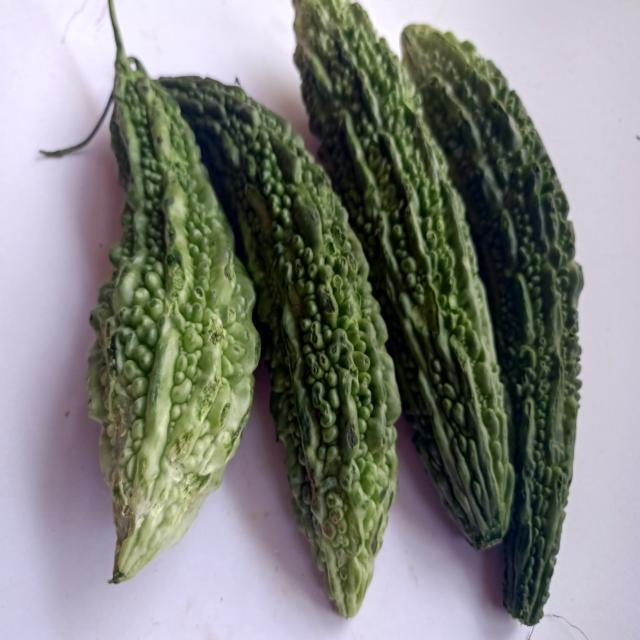Bitter Gourd: (288, 1, 523, 574), (175, 66, 407, 629), (396, 14, 596, 635), (74, 40, 268, 609)
